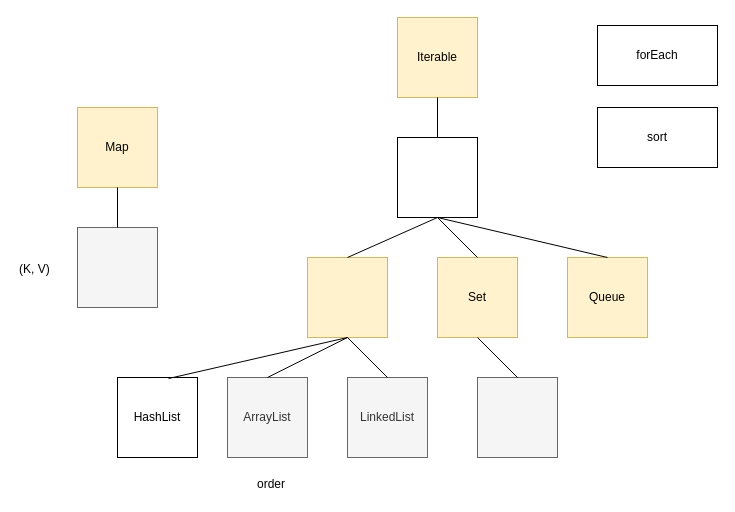
This 735x512 diagram has some shape labels left out. The centre of each missing label's shape, as x and y in pixels:
"Collection" belongs at pixel 437 177.
"HashMap" belongs at pixel 117 267.
"HashSet" belongs at pixel 517 417.
"List" belongs at pixel 347 297.
